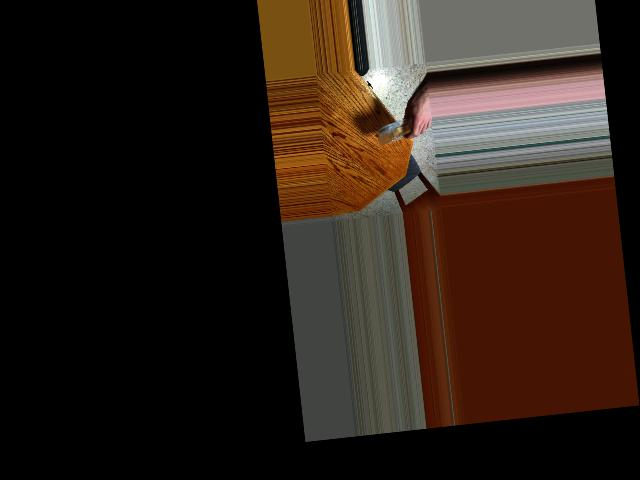cheese: (378, 111, 413, 145)
